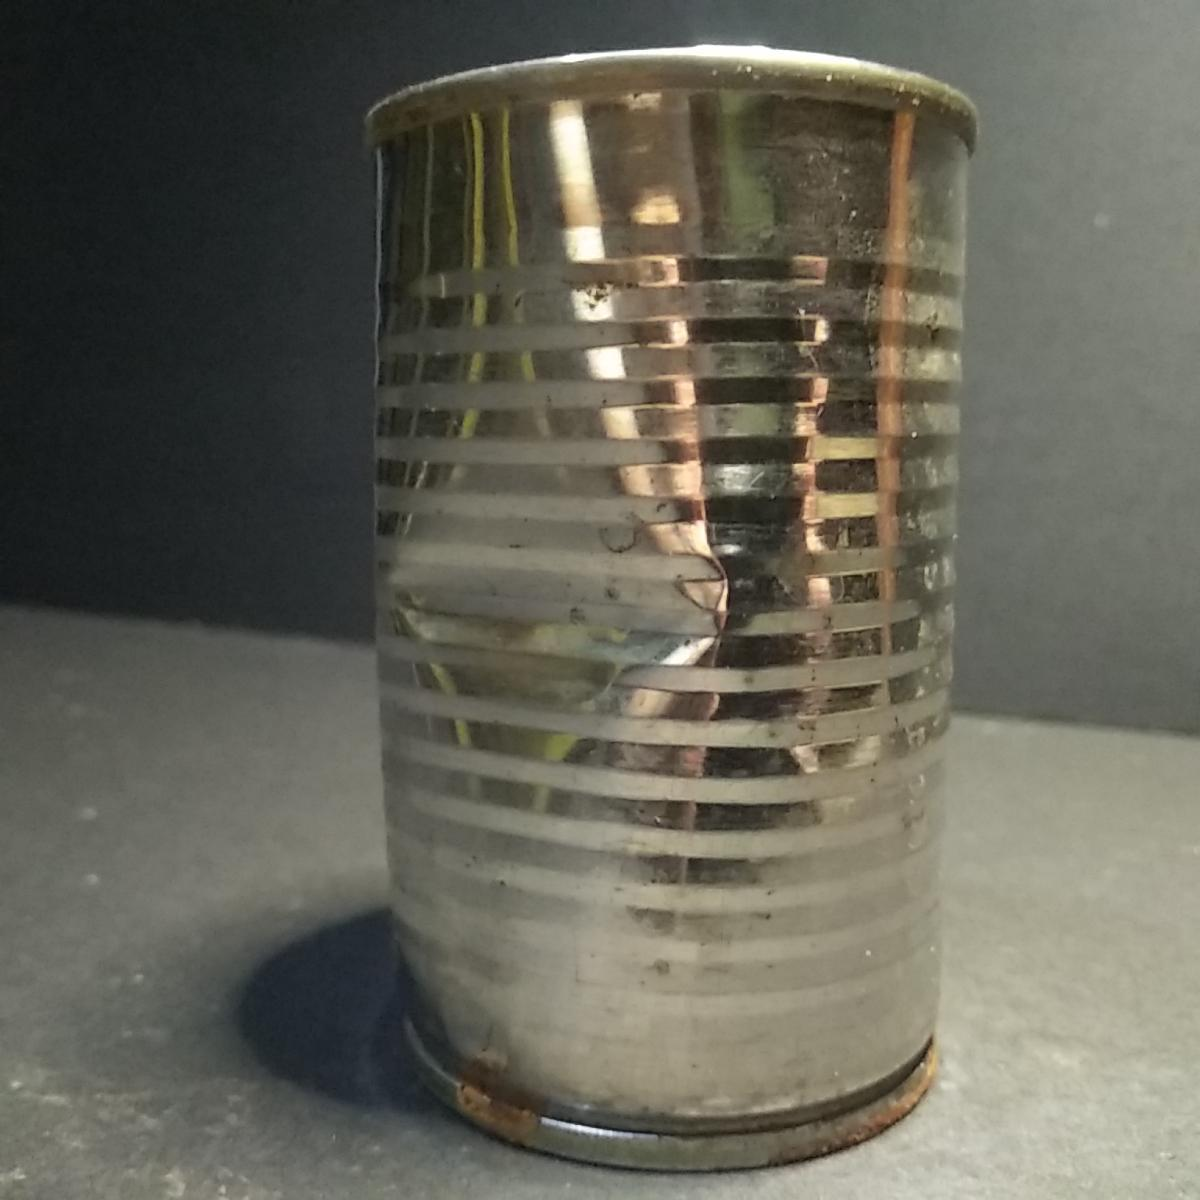Dented: (356, 26, 984, 1176)
